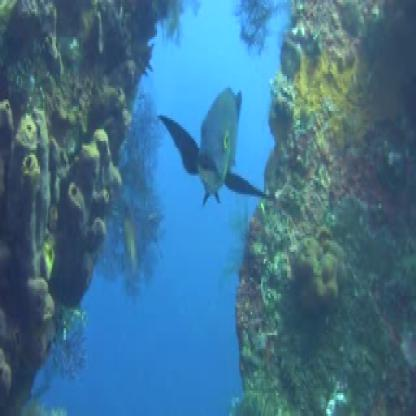snapper: (157, 54, 274, 221)
